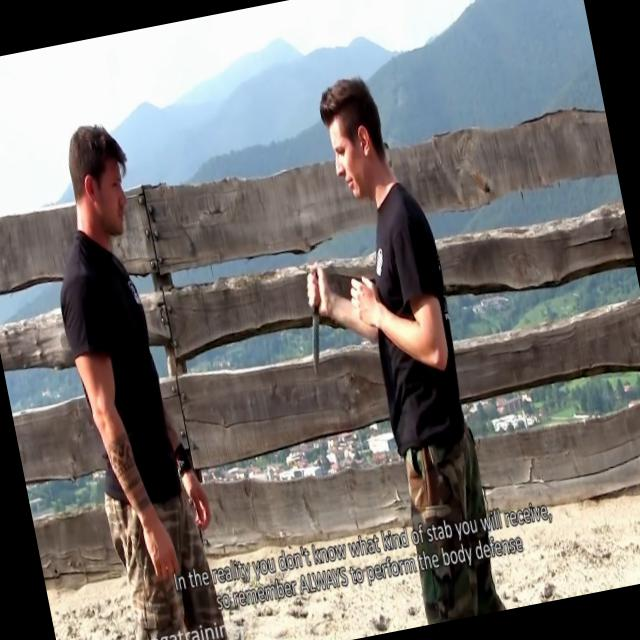knife: (290, 256, 346, 382)
